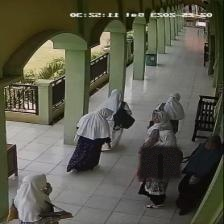Cadar_Niqab: (139, 129, 182, 178)
